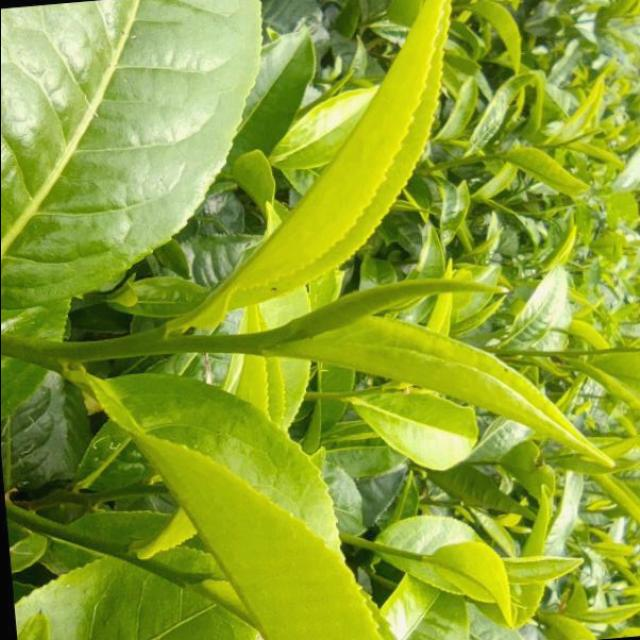Stem: (139, 331, 169, 353), (413, 554, 421, 561)
